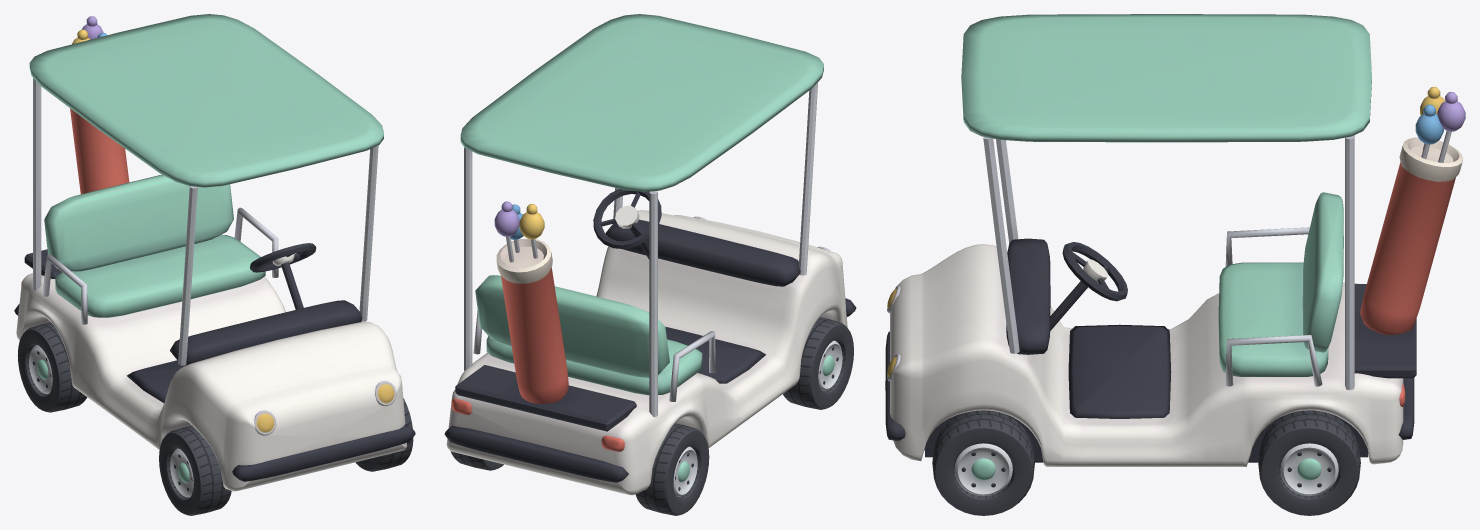
Rendered from golf-cart.glb.
3 renders of one model, left to right at view 1: azimuth 30°, elevation 25°; view 2: azimuth 150°, elevation 25°; view 3: azimuth 270°, elevation 25°, orthographic. The views are drawn at different scales.
Parts seen in each view (by area): view 1: golf-cart_body, golf-cart_wheel_fr, golf-cart_wheel_rr, golf-cart_steering_wheel, golf-cart_wheel_fl; view 2: golf-cart_body, golf-cart_wheel_rr, golf-cart_wheel_fr, golf-cart_steering_wheel, golf-cart_wheel_rl; view 3: golf-cart_body, golf-cart_wheel_rl, golf-cart_wheel_fl, golf-cart_steering_wheel.
Boxes of the visible parts, x1,y1,x2,y2 form: golf-cart_body: [14, 14, 415, 491]; golf-cart_wheel_fr: [159, 425, 231, 515]; golf-cart_wheel_rr: [17, 322, 87, 412]; golf-cart_steering_wheel: [250, 243, 316, 272]; golf-cart_wheel_fl: [355, 398, 413, 471]; golf-cart_body: [444, 14, 856, 495]; golf-cart_wheel_rr: [635, 423, 709, 515]; golf-cart_wheel_fr: [783, 317, 853, 409]; golf-cart_steering_wheel: [593, 189, 661, 248]; golf-cart_wheel_rl: [450, 451, 503, 470]; golf-cart_body: [885, 14, 1465, 466]; golf-cart_wheel_rl: [1258, 410, 1360, 515]; golf-cart_wheel_fl: [932, 410, 1034, 515]; golf-cart_steering_wheel: [1062, 242, 1127, 301].
Bounding box in the file's own units: 1.29 × 1.91 × 2.6.
Materials: 19 (5 with a texture image).
